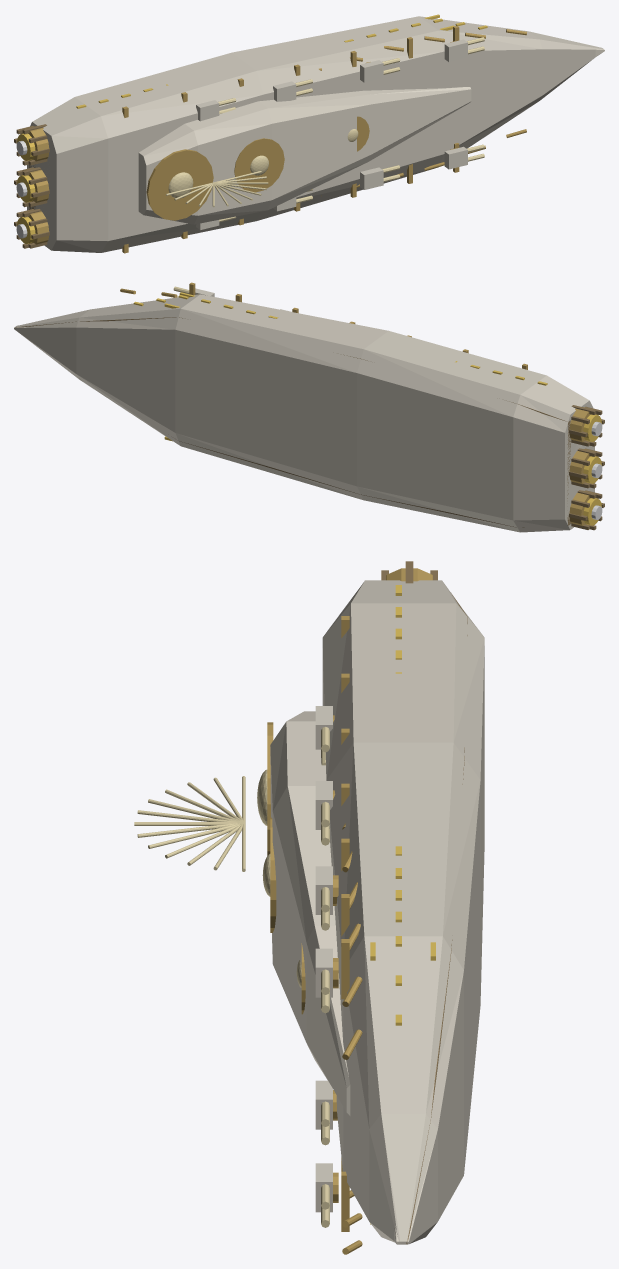
Rendered from flag-solar.glb.
3 renders of one model, top to bottom at view 1: azimuth 30°, elevation 25°; view 2: azimuth 150°, elevation 25°; view 3: azimuth 270°, elevation 25°, orthographic. The views are drawn at different scales.
Visible parts, largest first — view 1: hull_0000, grand_deck_0092, sun_deck_0093, sun_deck_0095, gold_dome_0094, turret_0157, turret_0149, turret_0153, turret_0161, turret_0145, engine_casing_0081, engine_casing_0059 (+3 smaller); view 2: hull_0000, lower_keel_0002, engine_casing_0059, engine_casing_0081, engine_casing_0070; view 3: hull_0000, grand_deck_0092.
Part boxes in pixels (x1,y1,x2,y2): hull_0000: (27,16,603,252); grand_deck_0092: (138,87,471,224); sun_deck_0093: (146,149,213,220); sun_deck_0095: (234,138,284,192); gold_dome_0094: (168,172,193,198); turret_0157: (444,146,467,169); turret_0149: (360,167,383,189); turret_0153: (360,60,383,82); turret_0161: (444,39,467,61); turret_0145: (273,81,296,101); engine_casing_0081: (20,126,49,161); engine_casing_0059: (20,209,49,244); hull_0000: (14,294,594,532); lower_keel_0002: (15,317,571,527); engine_casing_0059: (569,490,598,525); engine_casing_0081: (569,407,598,442); engine_casing_0070: (569,449,598,484); hull_0000: (322,580,484,1244); grand_deck_0092: (270,711,350,1115).
Bounding box in the file's own units: 22.69 × 5.6 × 5.92.
